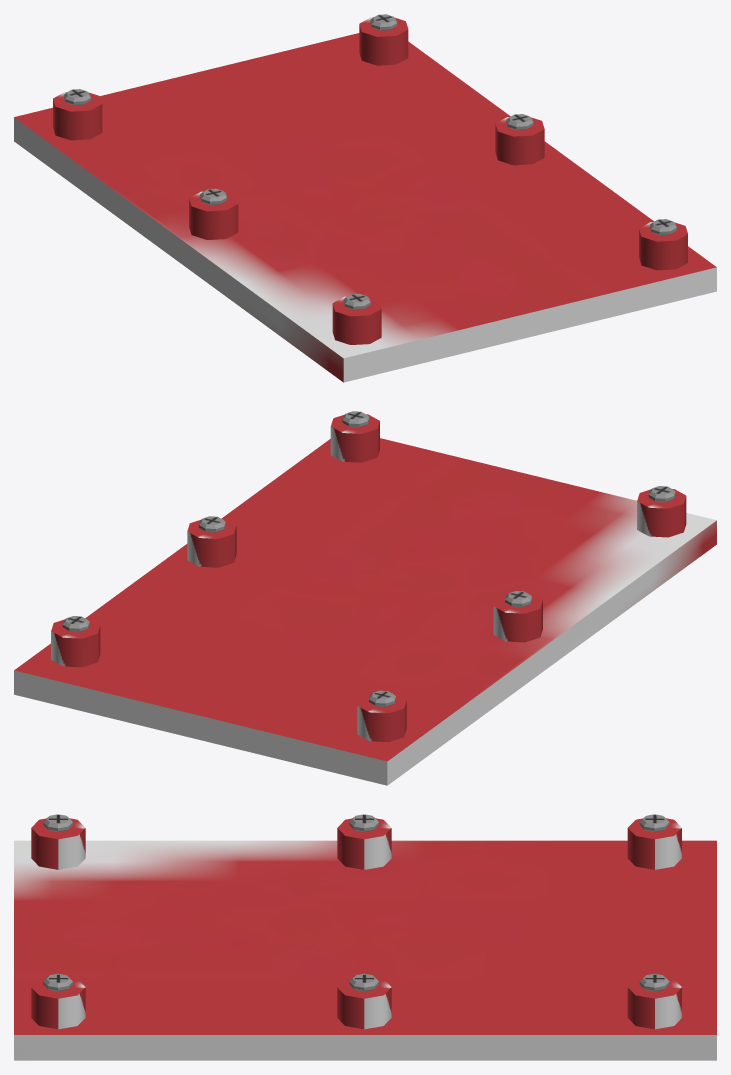
File: Special track piece - Locked straight piece.fbx
The picture shows the model from 3 angles, top to bottom: view 1: azimuth 30°, elevation 25°; view 2: azimuth 150°, elevation 25°; view 3: azimuth 270°, elevation 25°; orthographic projection. The views are drawn at different scales.
Visible parts, largest first — view 1: Straight peice (locked); view 2: Straight peice (locked); view 3: Straight peice (locked).
Boxes of the visible parts, bbox=[...] form: Straight peice (locked): bbox=[14, 14, 716, 382]; Straight peice (locked): bbox=[14, 411, 716, 785]; Straight peice (locked): bbox=[14, 814, 716, 1060].
Size of the model in its own units: 64.08 by 9.99 by 97.96.
